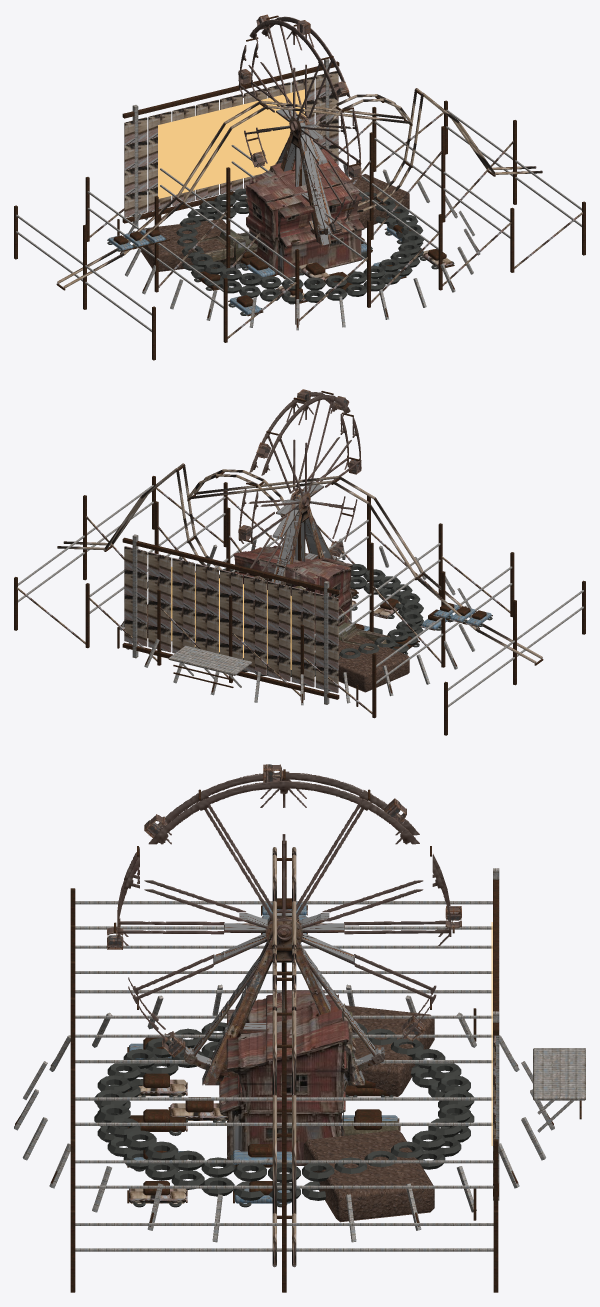
File: fun.glb
3 views of the same model, one above another, from view 1: azimuth 30°, elevation 25°; view 2: azimuth 150°, elevation 25°; view 3: azimuth 270°, elevation 25° (orthographic). The views are drawn at different scales.
Visible parts, largest first — view 1: tavern:body, drive-in:screen, big-wheel:traced-a-frame, big-wheel:photo-traced-rim-1, drive-in:screen-sheet--8, mud-pit:jump-ramp--1, big-wheel:photo-traced-rim-2, drive-in:screen-sheet--6, drive-in:screen-sheet-8, mud-pit:jump-ramp-1, drive-in:screen-frame-9.4, tavern:truck-body (+6 smaller); view 2: tavern:body, big-wheel:traced-a-frame, mud-pit:jump-ramp--1, drive-in:screen-sheet--4, big-wheel:photo-traced-rim-1, drive-in:screen-sheet-6, drive-in:screen-sheet--2, drive-in:screen-sheet--6, drive-in:screen-sheet-4, drive-in:screen-sheet-2, big-wheel:photo-traced-rim-2, drive-in:screen-sheet-8 (+9 smaller); view 3: tavern:body, big-wheel:traced-a-frame, big-wheel:photo-traced-rim-2, mud-pit:jump-ramp-1, big-wheel:photo-traced-rim-1, mud-pit:jump-ramp--1, mud-pit:grandstand-bench, scrap-coaster:bay-tie-18--10, scrap-coaster:bay-tie-12--10, scrap-coaster:bay-tie-12-0, scrap-coaster:bay-tie-6-0, scrap-coaster:bay-tie-6--10 (+12 smaller).
Boxes of the visible parts, left/top/right/bottom form: tavern:body: left=246, top=149, right=364, bottom=279; drive-in:screen: left=158, top=89, right=306, bottom=198; big-wheel:traced-a-frame: left=272, top=106, right=332, bottom=245; big-wheel:photo-traced-rim-1: left=239, top=19, right=348, bottom=223; drive-in:screen-sheet--8: left=124, top=117, right=147, bottom=217; mud-pit:jump-ramp--1: left=139, top=219, right=226, bottom=271; big-wheel:photo-traced-rim-2: left=251, top=16, right=360, bottom=220; drive-in:screen-sheet--6: left=148, top=111, right=171, bottom=211; drive-in:screen-sheet-8: left=315, top=71, right=338, bottom=165; mud-pit:jump-ramp-1: left=351, top=174, right=409, bottom=228; drive-in:screen-frame-9.4: left=122, top=61, right=339, bottom=118; tavern:truck-body: left=185, top=229, right=257, bottom=268; tavern:body: left=233, top=545, right=354, bottom=633; big-wheel:traced-a-frame: left=271, top=481, right=337, bottom=583; mud-pit:jump-ramp--1: left=314, top=634, right=409, bottom=692; drive-in:screen-sheet--4: left=267, top=581, right=290, bottom=681; big-wheel:photo-traced-rim-1: left=251, top=395, right=360, bottom=578; drive-in:screen-sheet-6: left=148, top=552, right=171, bottom=652; drive-in:screen-sheet--2: left=244, top=575, right=266, bottom=675; drive-in:screen-sheet--6: left=291, top=587, right=314, bottom=687; drive-in:screen-sheet-4: left=172, top=558, right=195, bottom=653; drive-in:screen-sheet-2: left=196, top=563, right=218, bottom=653; big-wheel:photo-traced-rim-2: left=239, top=392, right=348, bottom=575; drive-in:screen-sheet-8: left=124, top=546, right=147, bottom=646; tavern:body: left=219, top=990, right=349, bottom=1165; big-wheel:traced-a-frame: left=183, top=913, right=384, bottom=1085; big-wheel:photo-traced-rim-2: left=117, top=780, right=451, bottom=1038; mud-pit:jump-ramp-1: left=303, top=1130, right=434, bottom=1222; big-wheel:photo-traced-rim-1: left=117, top=771, right=451, bottom=1029; mud-pit:jump-ramp--1: left=345, top=1005, right=434, bottom=1096; mud-pit:grandstand-bench: left=533, top=1048, right=585, bottom=1100; scrap-coaster:bay-tie-18--10: left=75, top=1248, right=493, bottom=1251; scrap-coaster:bay-tie-12--10: left=75, top=1185, right=493, bottom=1188; scrap-coaster:bay-tie-12-0: left=75, top=1160, right=493, bottom=1163; scrap-coaster:bay-tie-6-0: left=75, top=1097, right=492, bottom=1100; scrap-coaster:bay-tie-6--10: left=75, top=1122, right=492, bottom=1125.
Size of the model in its own units: 40.08 by 19.07 by 27.03.
30 materials, 25 textured.
